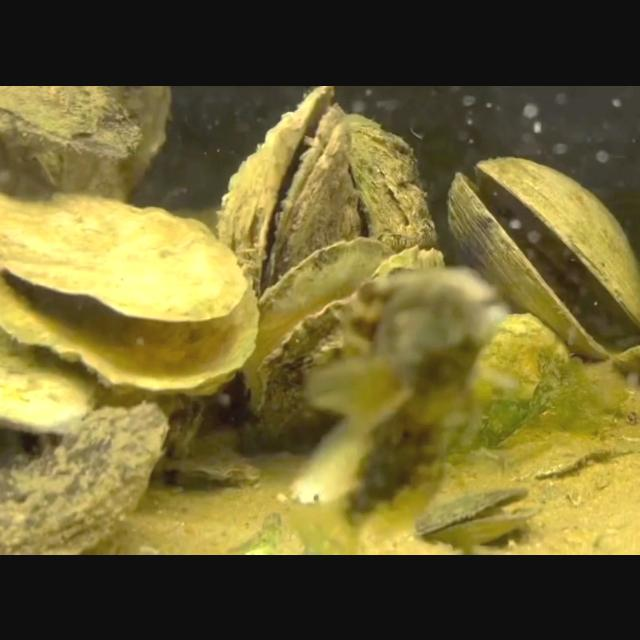Oyster-Closed: (0, 402, 172, 554), (415, 312, 573, 463), (344, 113, 438, 254), (0, 325, 104, 438), (0, 85, 144, 162)
Oyster-Open: (0, 192, 264, 395), (448, 158, 640, 366), (246, 238, 458, 418), (216, 85, 354, 295), (412, 488, 544, 554), (152, 434, 266, 494)
